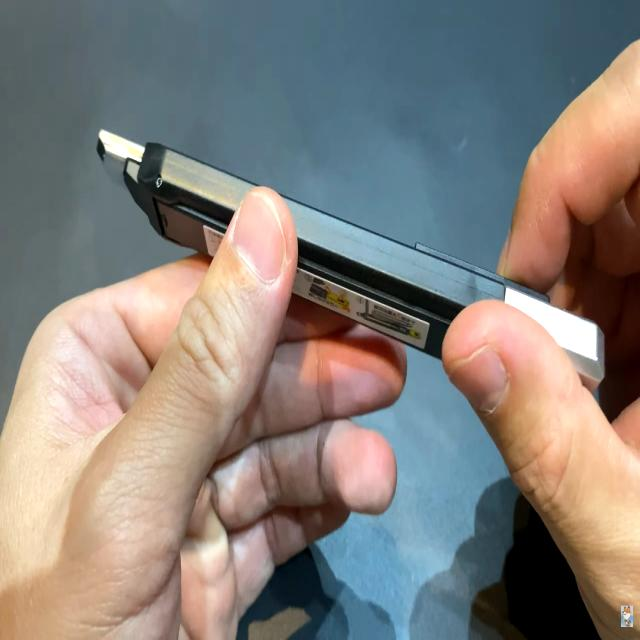cutter: (11, 43, 640, 586)
